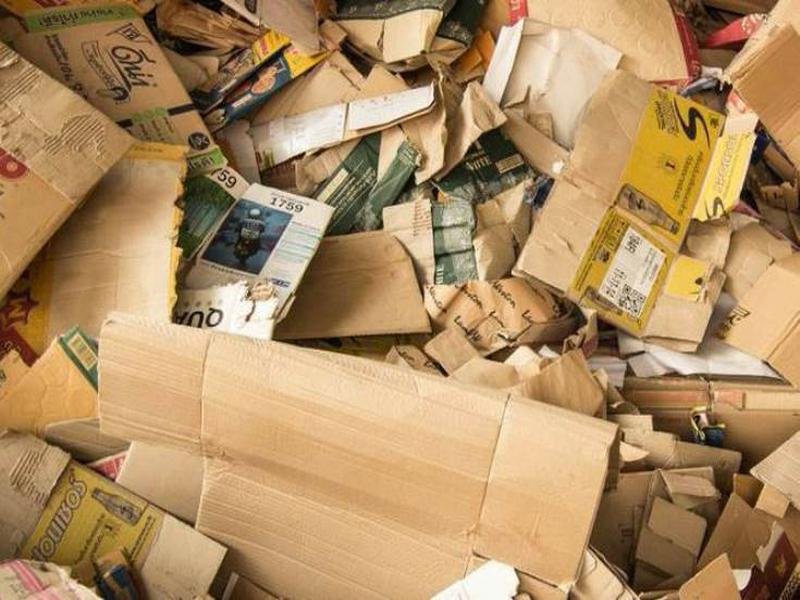cardboard: (92, 310, 623, 600), (508, 68, 759, 355), (1, 39, 138, 332), (1, 423, 226, 600), (627, 411, 800, 599), (170, 151, 340, 335)
